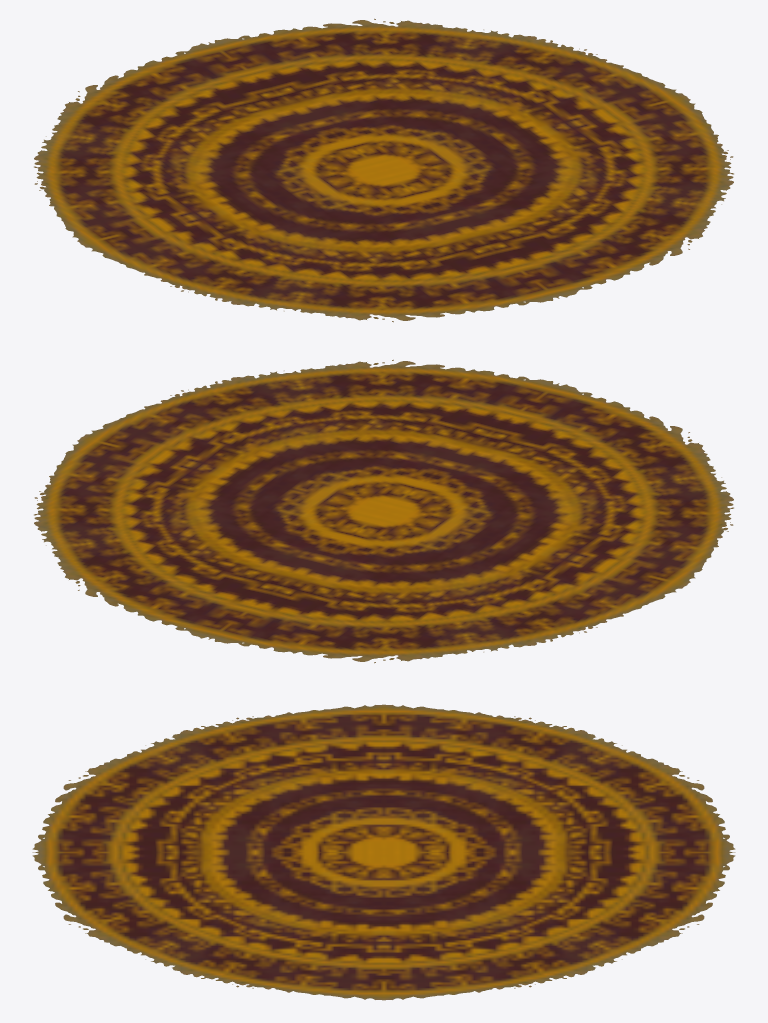
File: Carpet_Round_3.fbx
The picture shows the model from 3 angles, top to bottom: view 1: azimuth 30°, elevation 25°; view 2: azimuth 150°, elevation 25°; view 3: azimuth 270°, elevation 25°; orthographic projection.
Visible parts, largest first — view 1: pCylinder180; view 2: pCylinder180; view 3: pCylinder180.
Part boxes in pixels (left/top/right/bottom): pCylinder180: left=34, top=18, right=733, bottom=322; pCylinder180: left=34, top=359, right=733, bottom=663; pCylinder180: left=32, top=704, right=735, bottom=1000.
Bounding box in the file's own units: 3.8 × 0 × 3.8.
